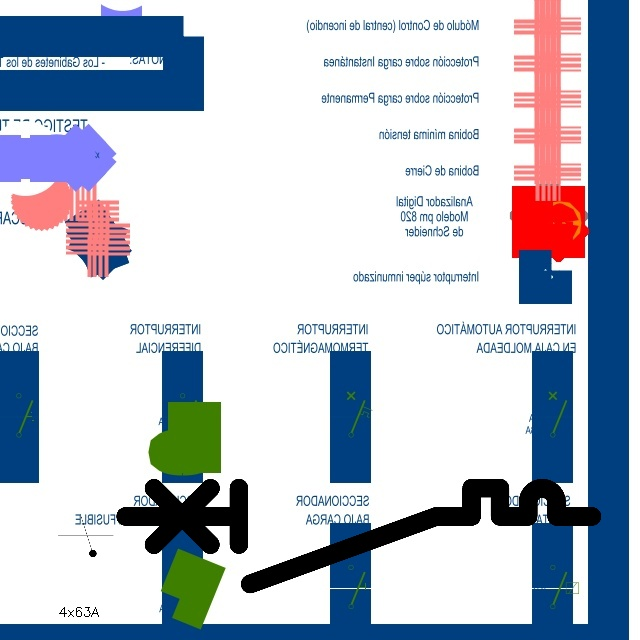interruptor_termomagnetico: (113, 476, 603, 596)
